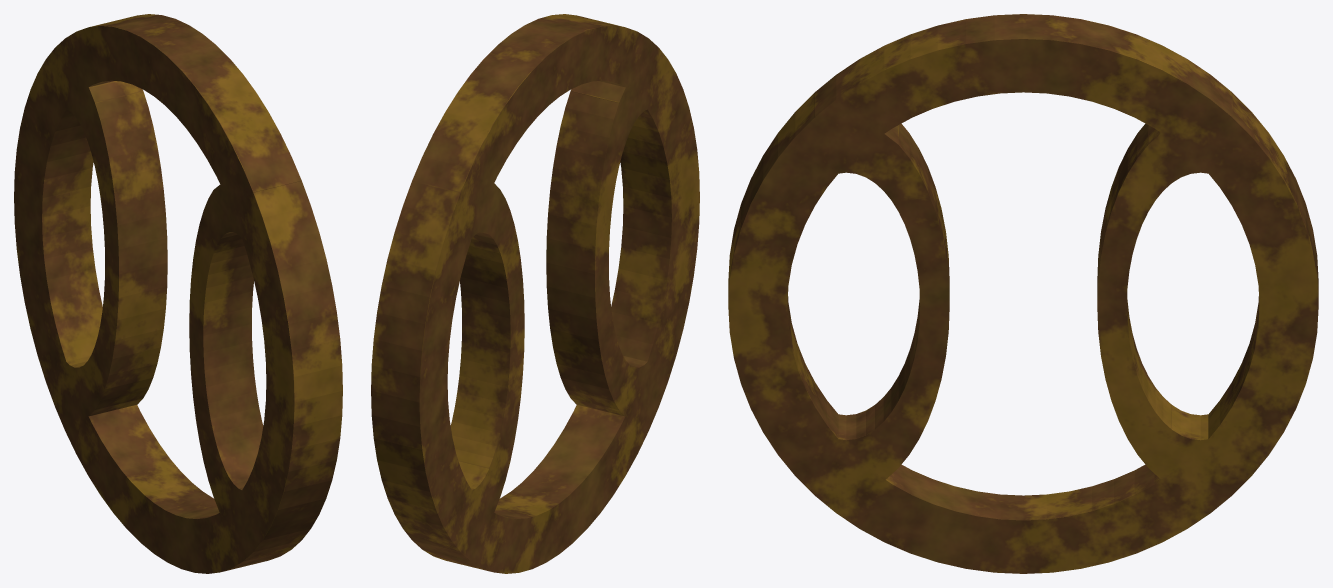
The model's file is Collectible4.fbx.
3 renders of one model, left to right at view 1: azimuth 30°, elevation 25°; view 2: azimuth 150°, elevation 25°; view 3: azimuth 270°, elevation 25°, orthographic. The views are drawn at different scales.
Visible parts, largest first — view 1: Circle.009; view 2: Circle.009; view 3: Circle.009.
Part boxes in pixels (x1,y1,x2,y2): Circle.009: (14,14,342,573); Circle.009: (371,14,699,573); Circle.009: (728,14,1318,573).
Bounding box in the file's own units: 8 × 80 × 80.
